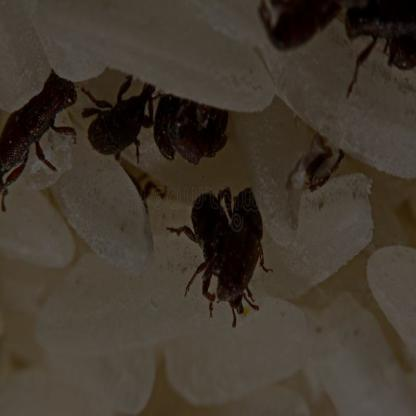rice-bug: (185, 192, 264, 317), (2, 71, 77, 194), (155, 80, 228, 164), (87, 76, 152, 156), (349, 0, 416, 68), (258, 0, 340, 49), (298, 134, 352, 190)
